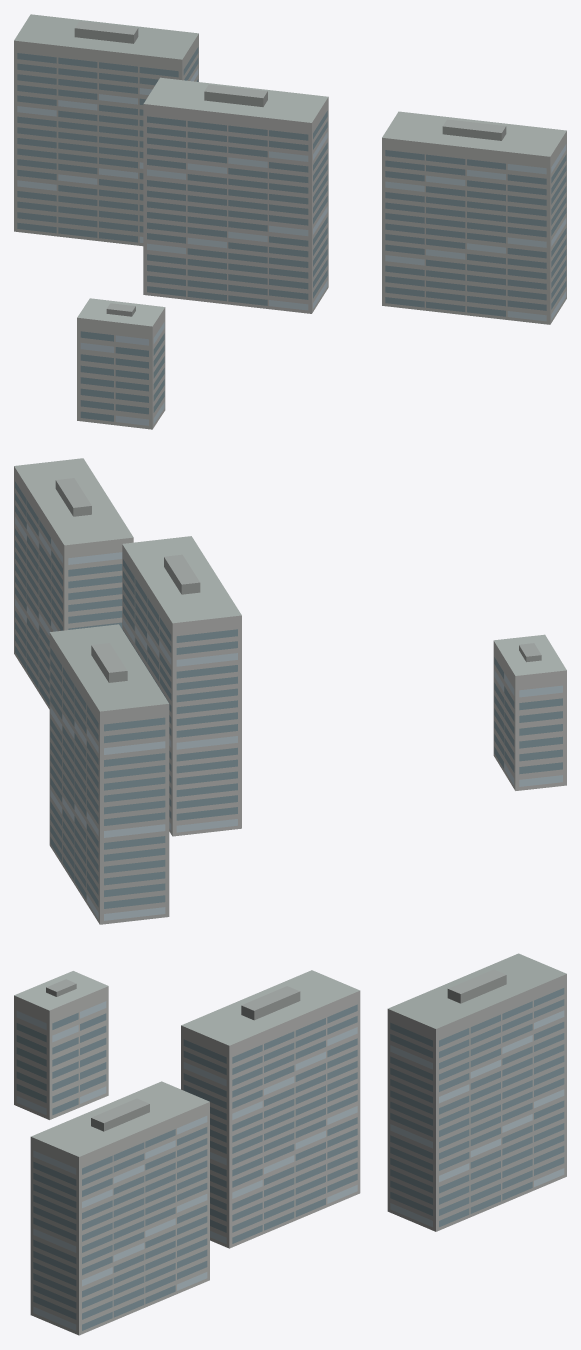
File: apt-a15609303.glb
3 renders of one model, top to bottom at view 1: azimuth 30°, elevation 25°; view 2: azimuth 150°, elevation 25°; view 3: azimuth 270°, elevation 25°, orthographic. The views are drawn at different scales.
Visible parts, largest first — view 1: apt-a15609303; view 2: apt-a15609303; view 3: apt-a15609303.
Part boxes in pixels (x1,y1,x2,y2): apt-a15609303: [14, 14, 566, 429]; apt-a15609303: [14, 458, 566, 924]; apt-a15609303: [14, 953, 566, 1335].
Size of the model in its own units: 129 by 50 by 118.
